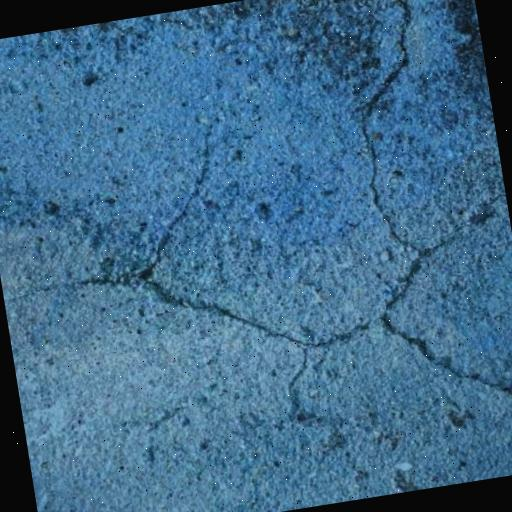spalling: (76, 133, 512, 401), (350, 0, 429, 311)
